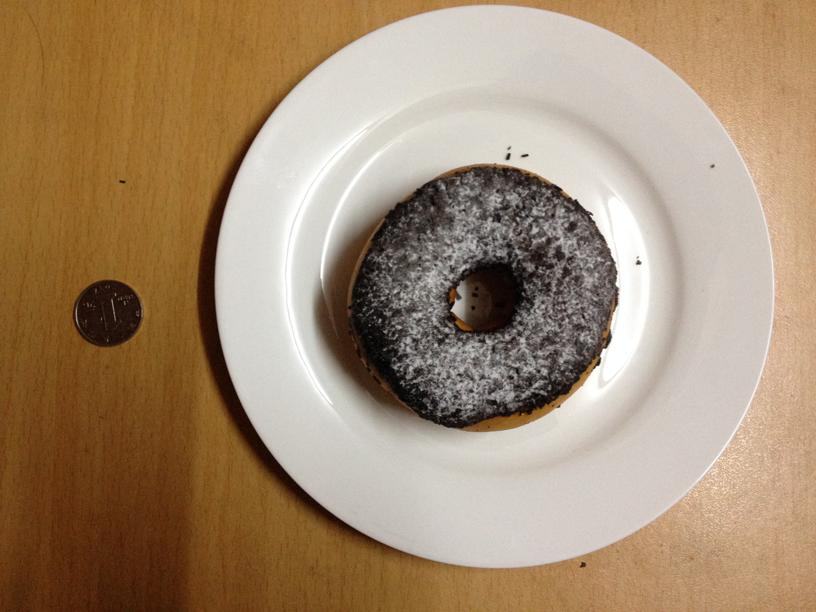coin: (70, 277, 143, 348)
doughnut: (339, 161, 616, 434)
